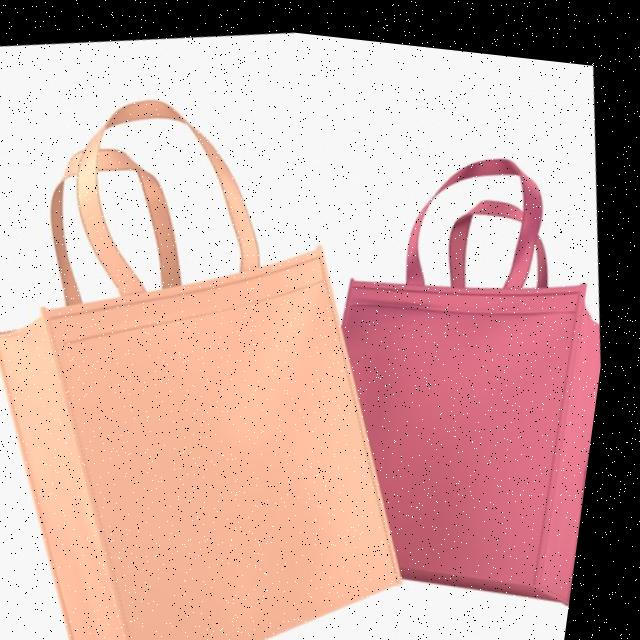ecobag: (0, 62, 486, 640)
